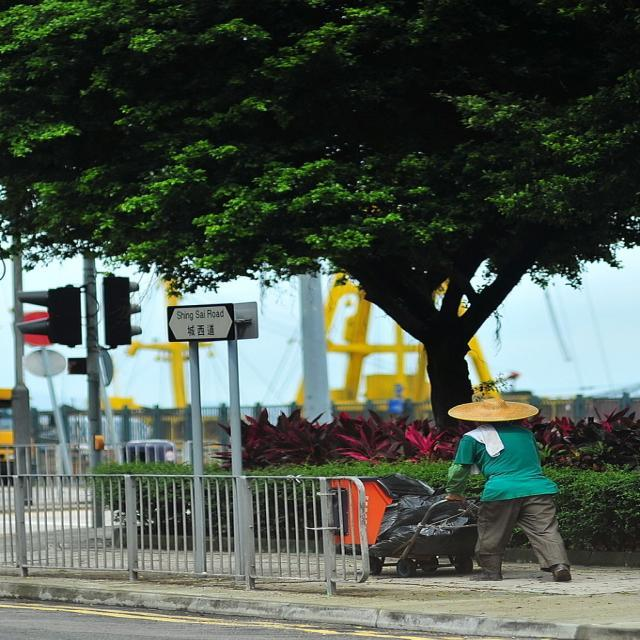off traffic light: (15, 283, 79, 350), (103, 274, 141, 347)
